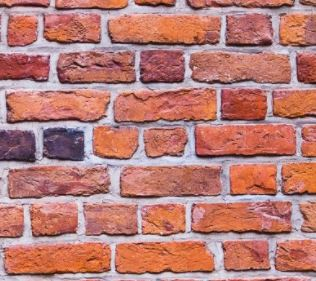brick: (3, 240, 114, 278), (190, 200, 296, 235), (119, 164, 222, 198), (110, 13, 221, 43), (114, 242, 215, 274), (6, 91, 112, 120), (193, 125, 295, 155), (116, 91, 217, 121), (194, 52, 291, 82), (7, 168, 110, 195), (58, 49, 138, 82), (85, 202, 139, 235), (31, 200, 79, 237), (44, 14, 104, 43), (227, 162, 278, 195), (224, 12, 274, 43), (220, 87, 268, 119), (140, 49, 186, 82), (222, 242, 271, 272), (92, 126, 139, 157), (40, 128, 85, 160), (1, 52, 52, 80), (143, 126, 186, 159), (141, 204, 187, 234), (275, 239, 316, 271), (278, 14, 315, 47), (273, 89, 316, 117), (281, 162, 316, 196), (1, 130, 35, 163), (7, 15, 39, 46), (1, 205, 24, 237), (295, 54, 316, 84), (299, 125, 316, 156)
